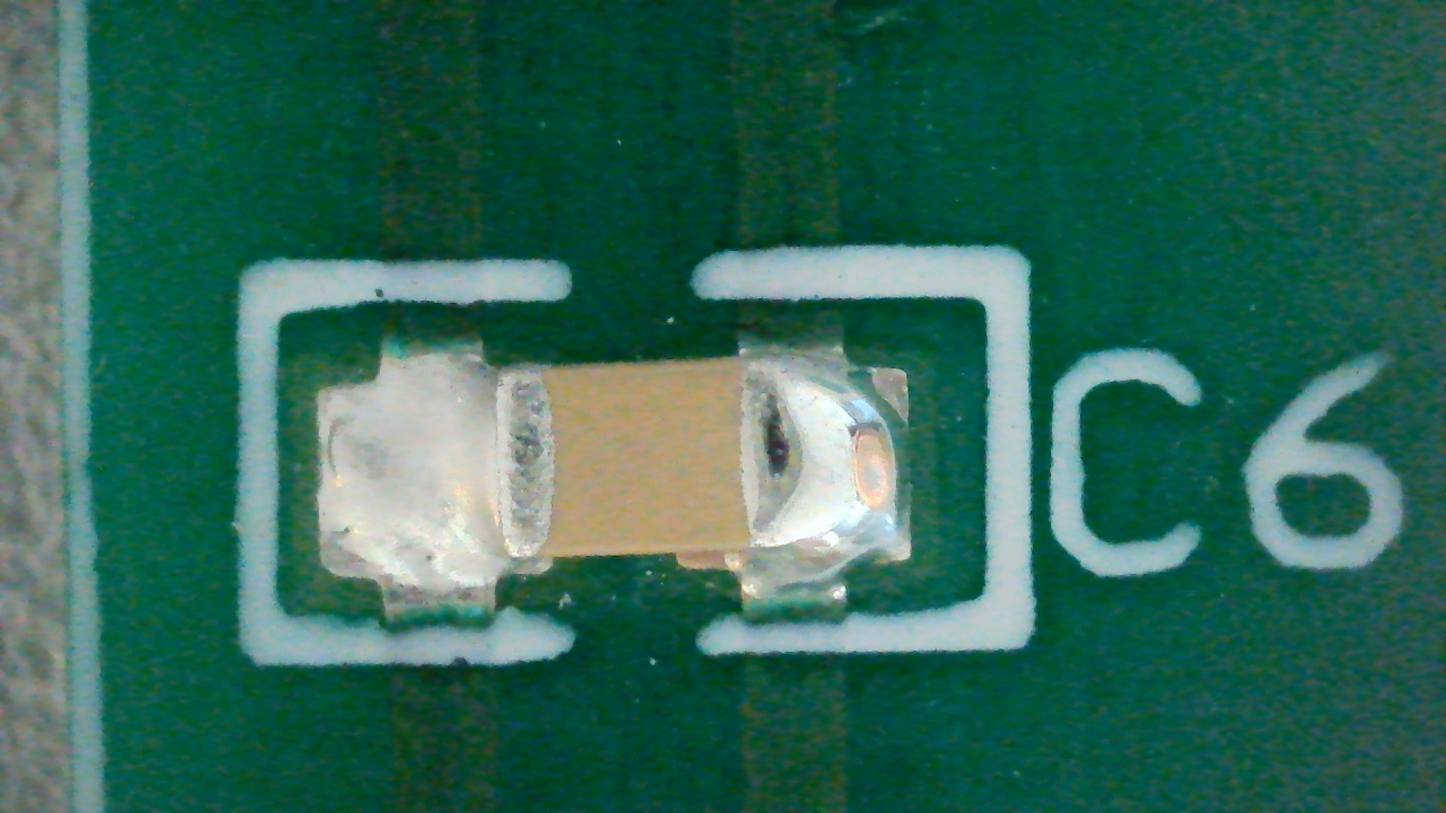OK: (312, 343, 913, 623)
